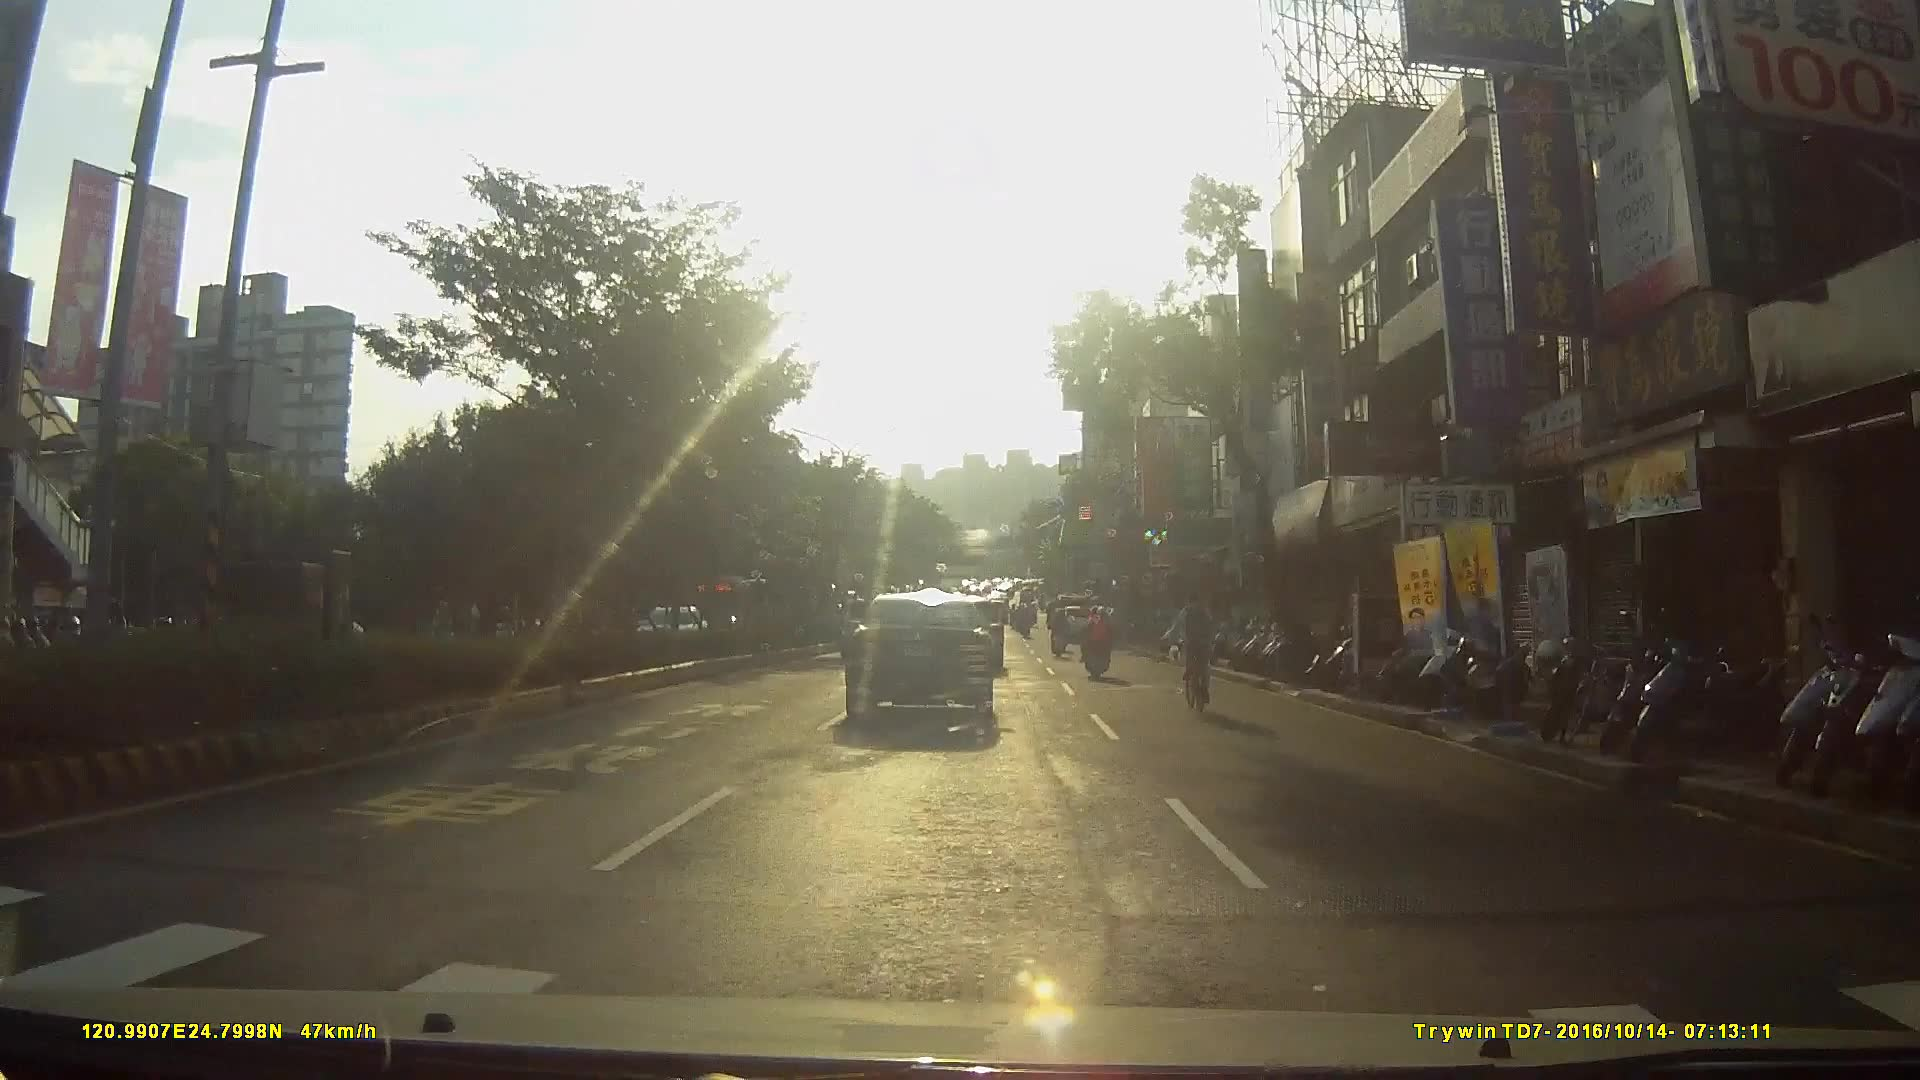rider: (1171, 586, 1230, 720), (1082, 612, 1116, 688), (1047, 607, 1072, 660)
vehicle: (844, 606, 1008, 752)
